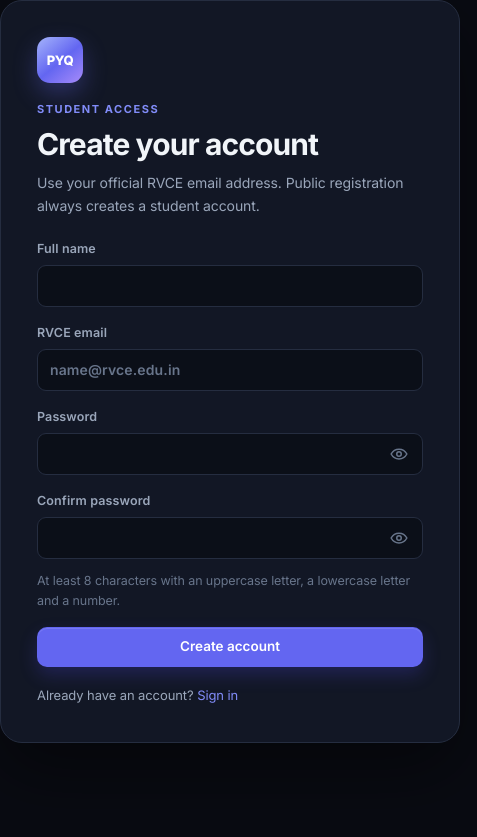
Register flow › rejects non-RVCE email address
In the field labelled "Full name": (230, 286) [37,265,423,307], type "New Student"
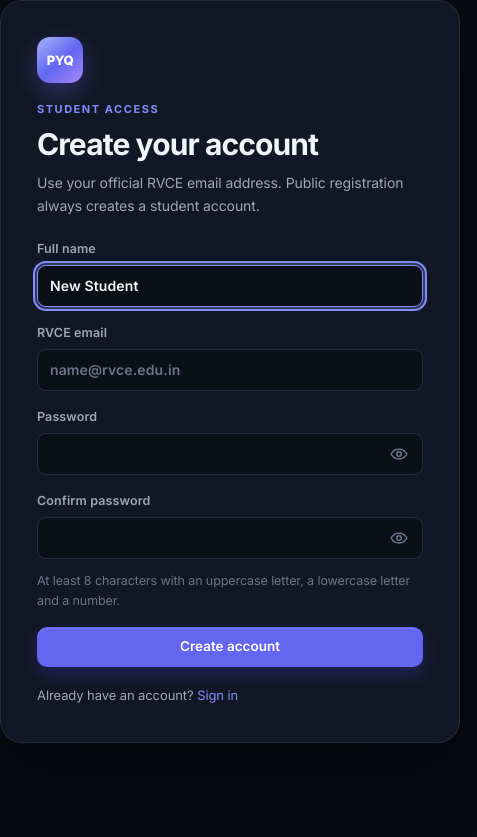
In the field labelled "RVCE email": (230, 370) [37,349,423,391], type "student@gmail.com"
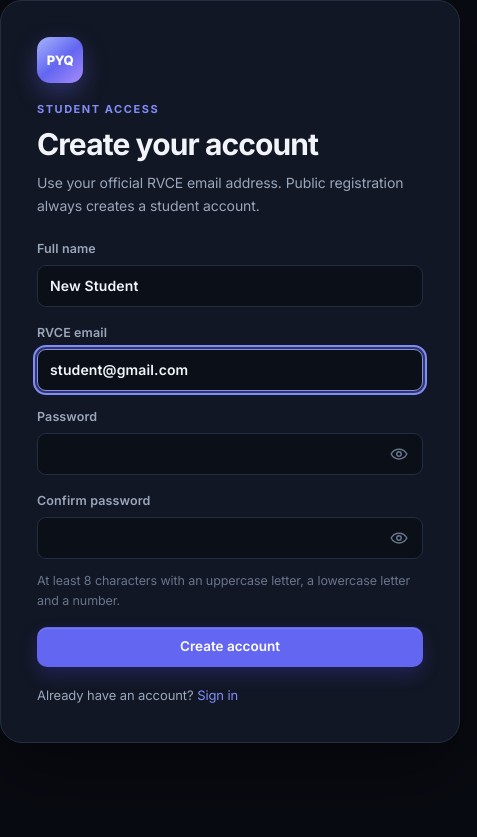
In the password field labelled "Password": (230, 454) [37,433,423,475], type "StrongPass1"
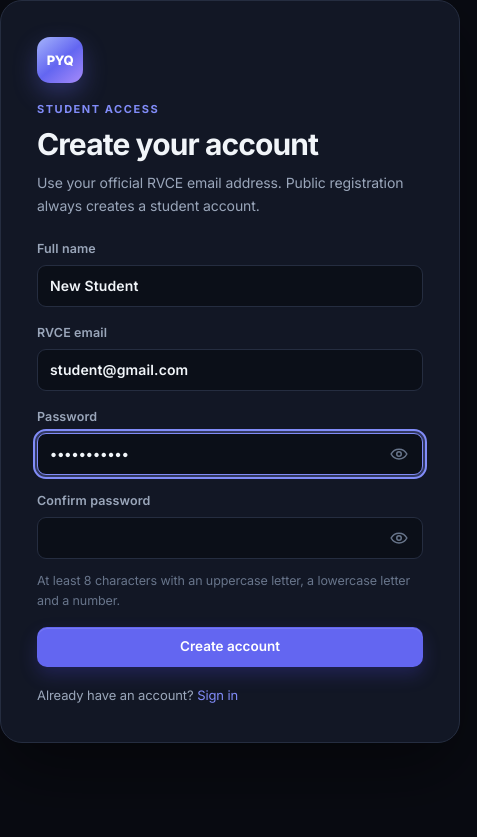
In the password field labelled "Confirm password": (230, 538) [37,517,423,559], type "StrongPass1"
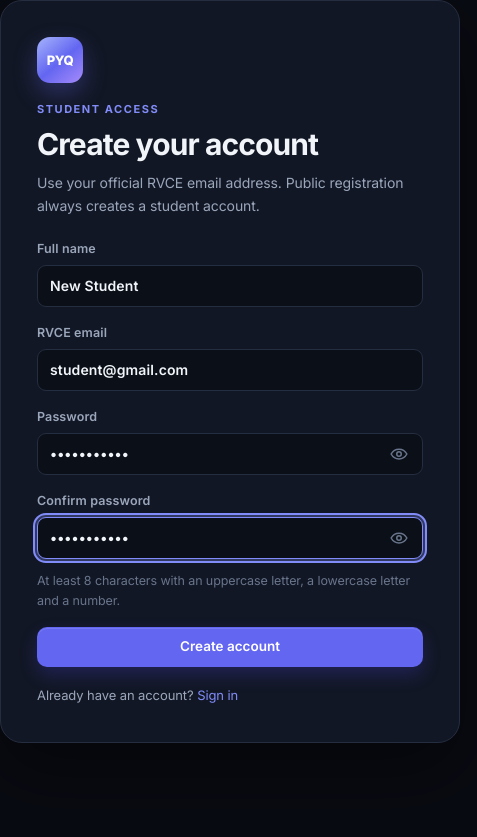
Click the button "Create account": (230, 647) [37,627,423,667]
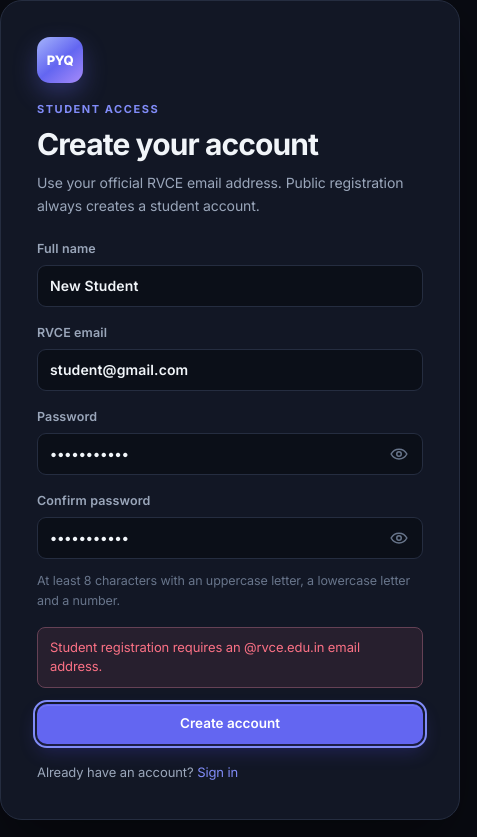
Expected: the text "Student registration requires an @rvce.edu.in email address." is shown, [37,627,423,688]
